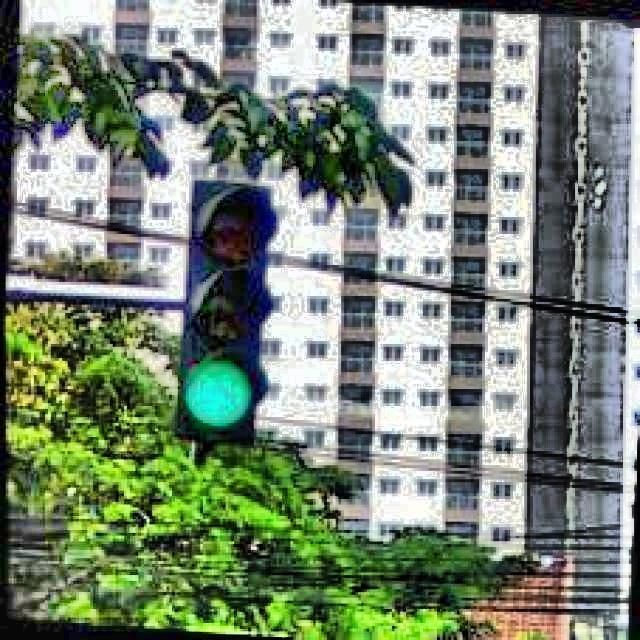green: (184, 176, 269, 448)
